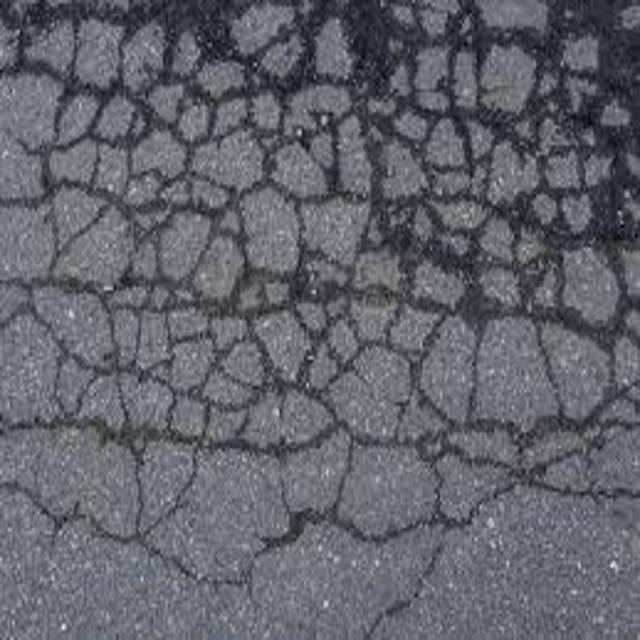Retak Buaya: (4, 0, 640, 587)
